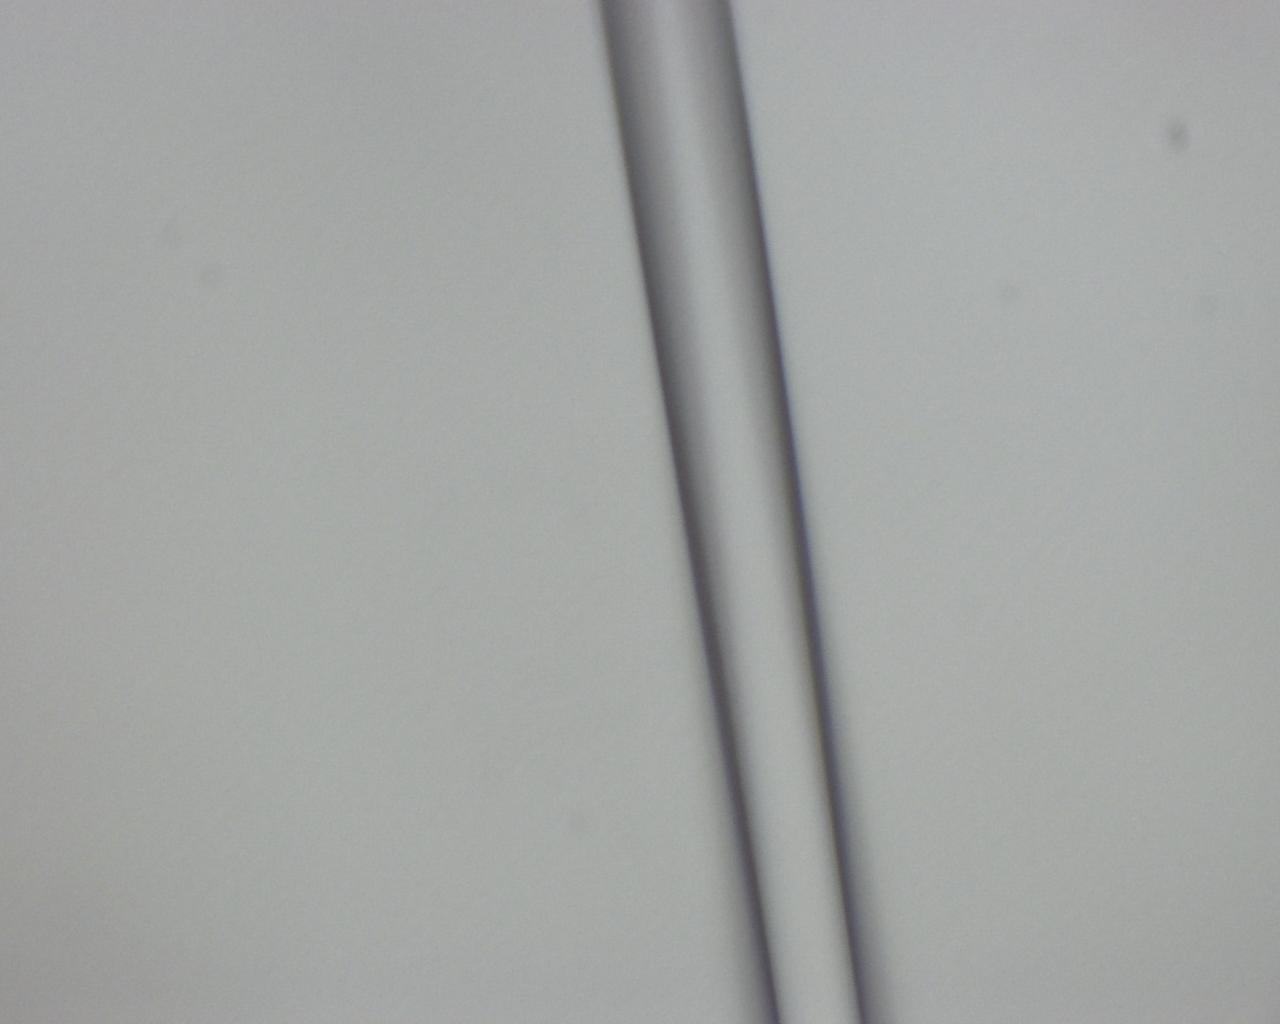fiber: (502, 624, 563, 1024)
